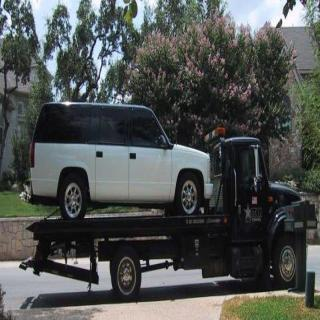Towing_truck: (19, 124, 317, 300)
